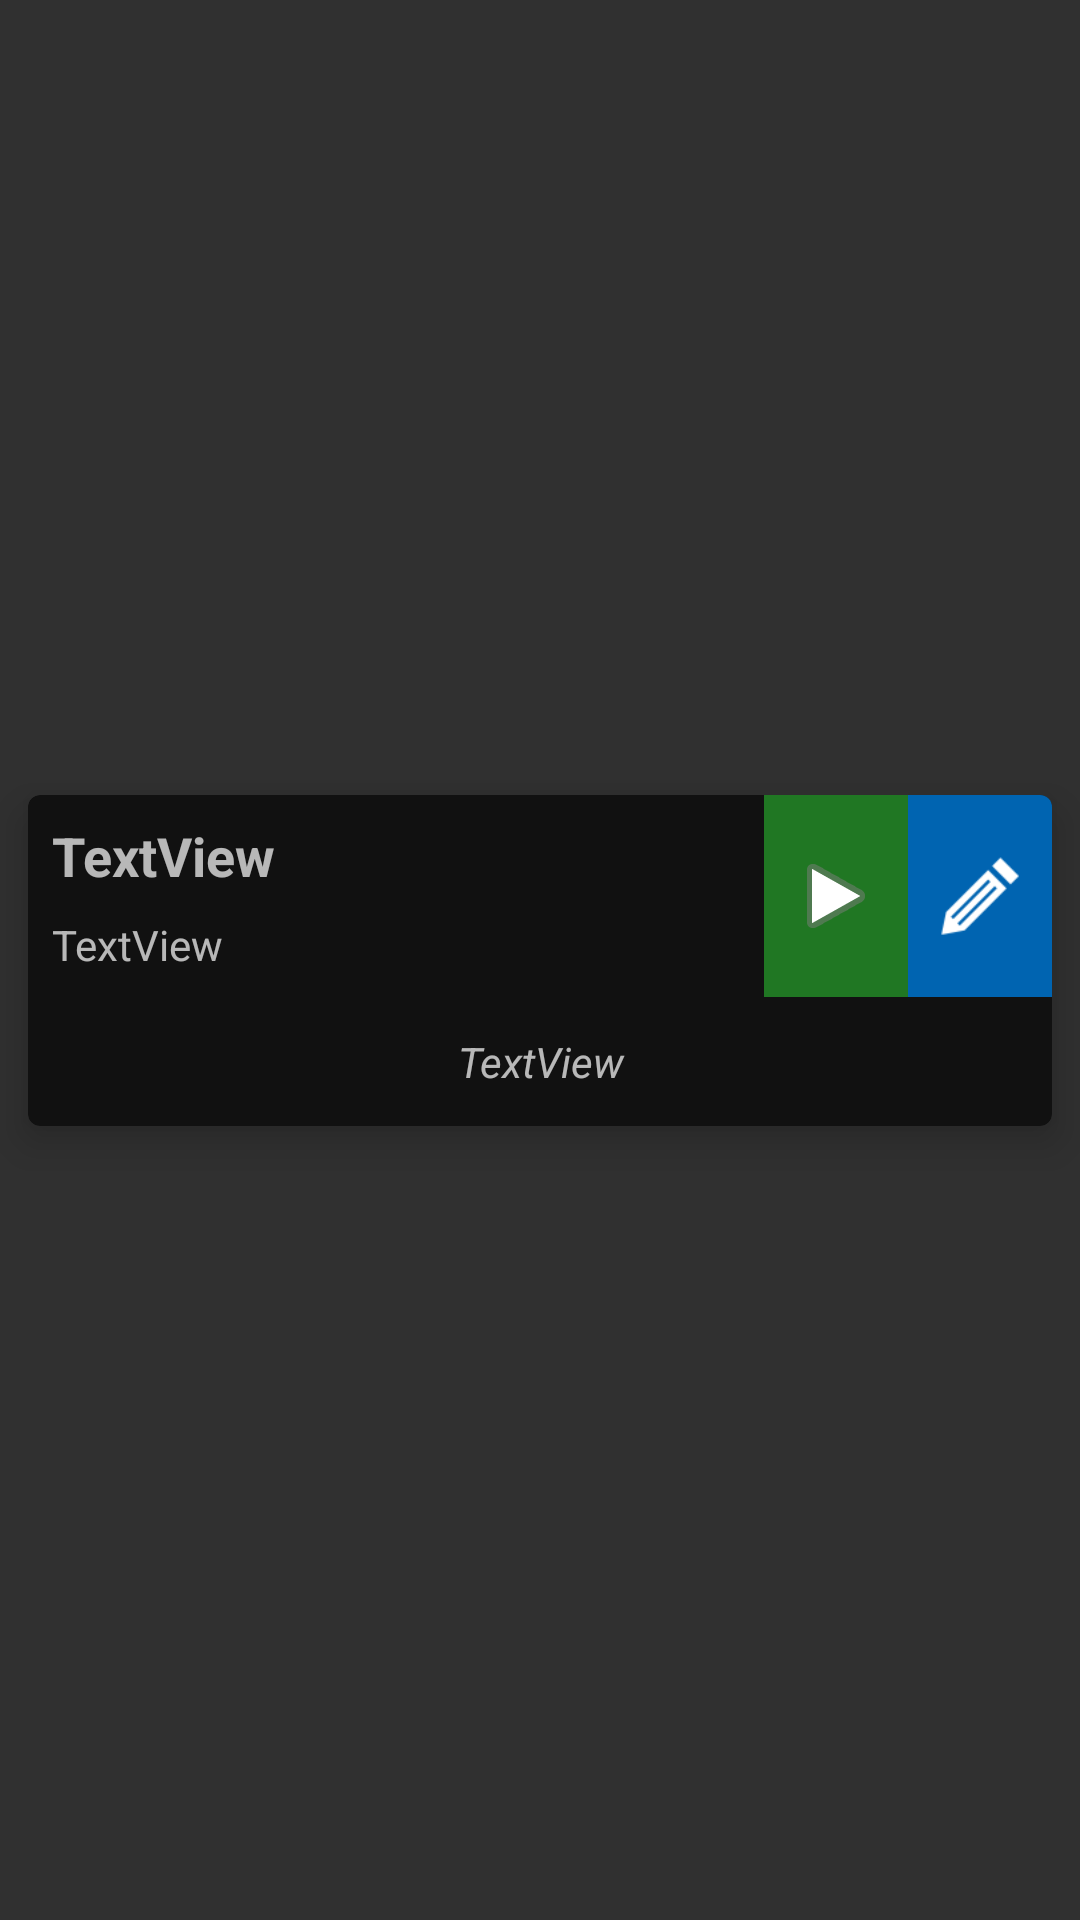

Point at icon controls on the screen. Image size 1080 x 1920, points as [x,y].
edit: [980,896]
play: [836,896]
